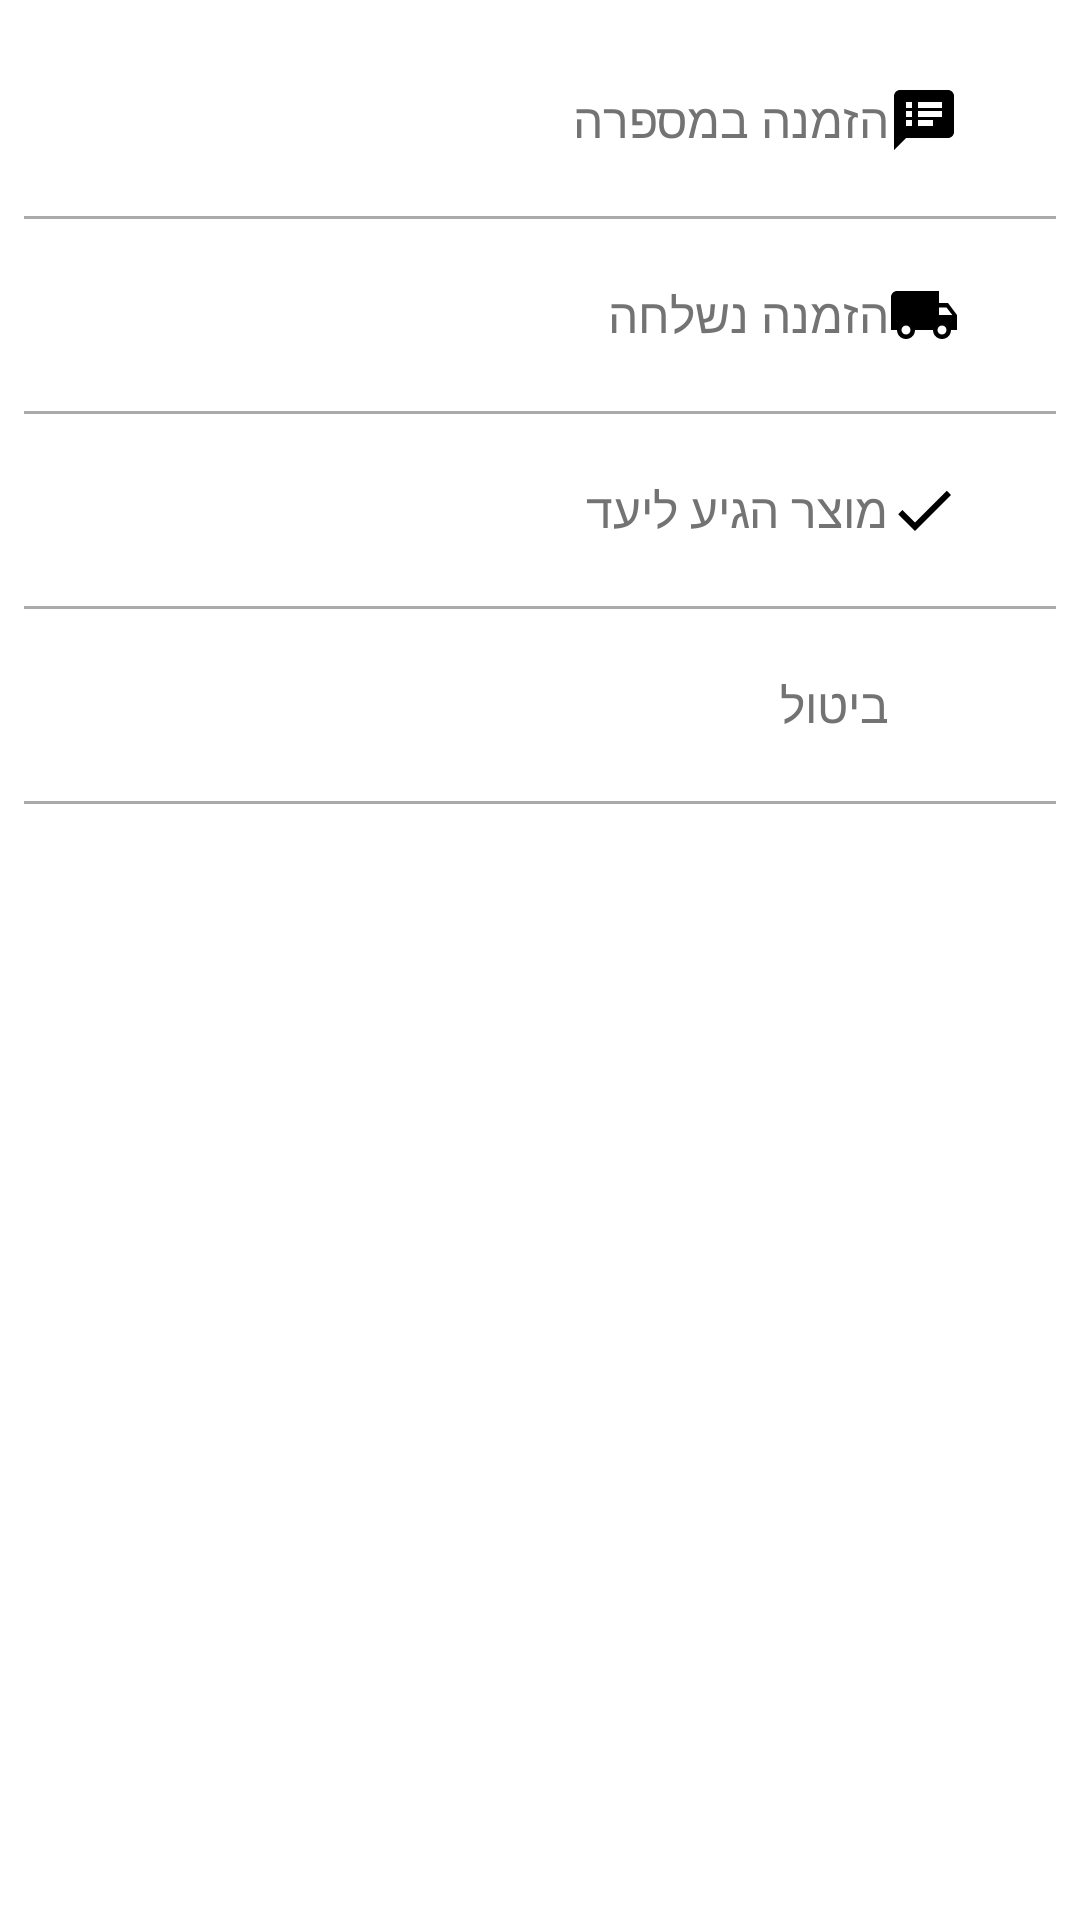

Icons on this 1080x1920 Android screen, each with the point to tap as [x,y]:
done: [924,511]
local shipping: [924,315]
